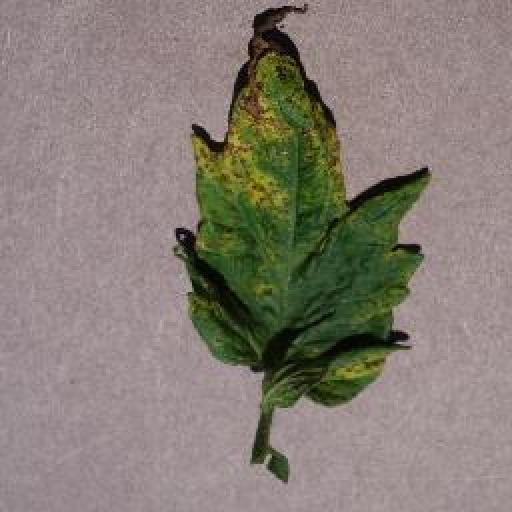Septoria: (174, 9, 429, 412)
